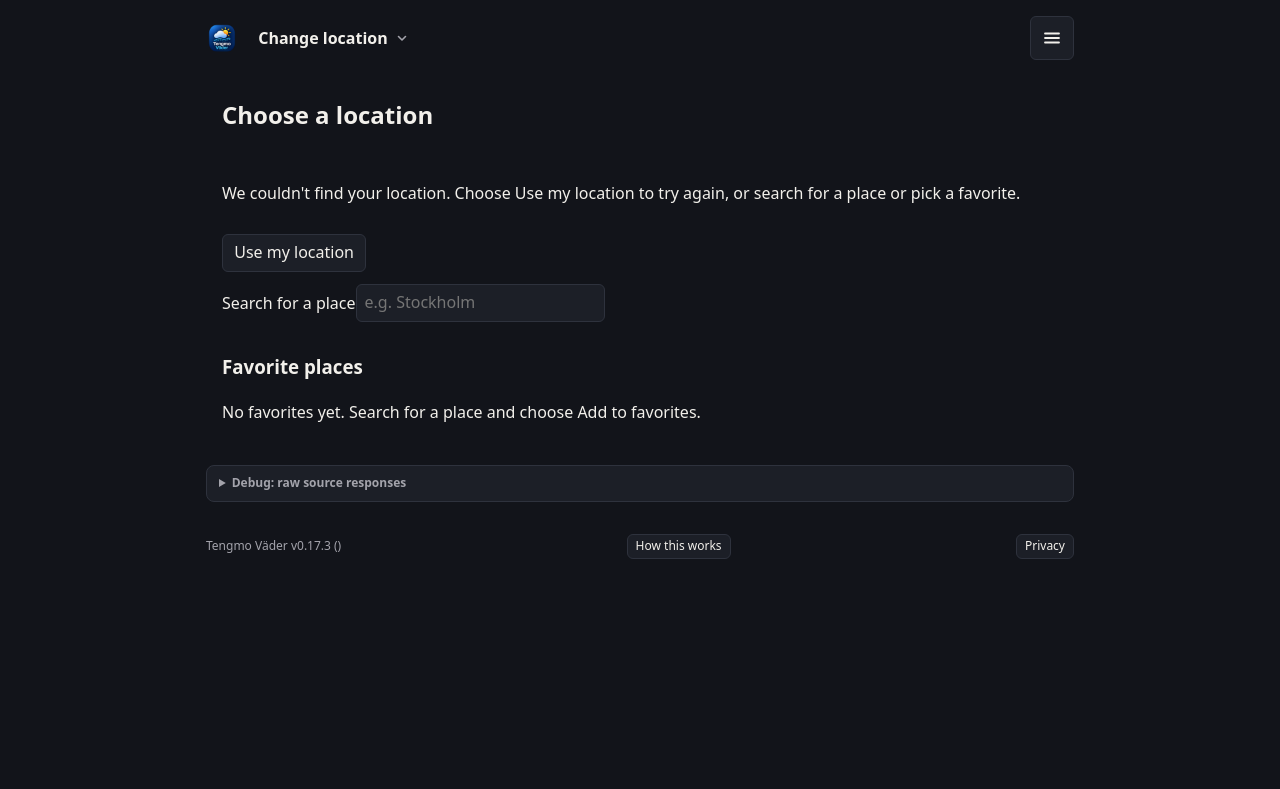
Test case: View a search result without favoriting (014-dashboard-usability-fixes, US1) › shows only the place name in the header after selecting a search result, not the full region/country string (049-show-only-place)
Click the button "Change location" at (333, 38), box [246,16,420,60]
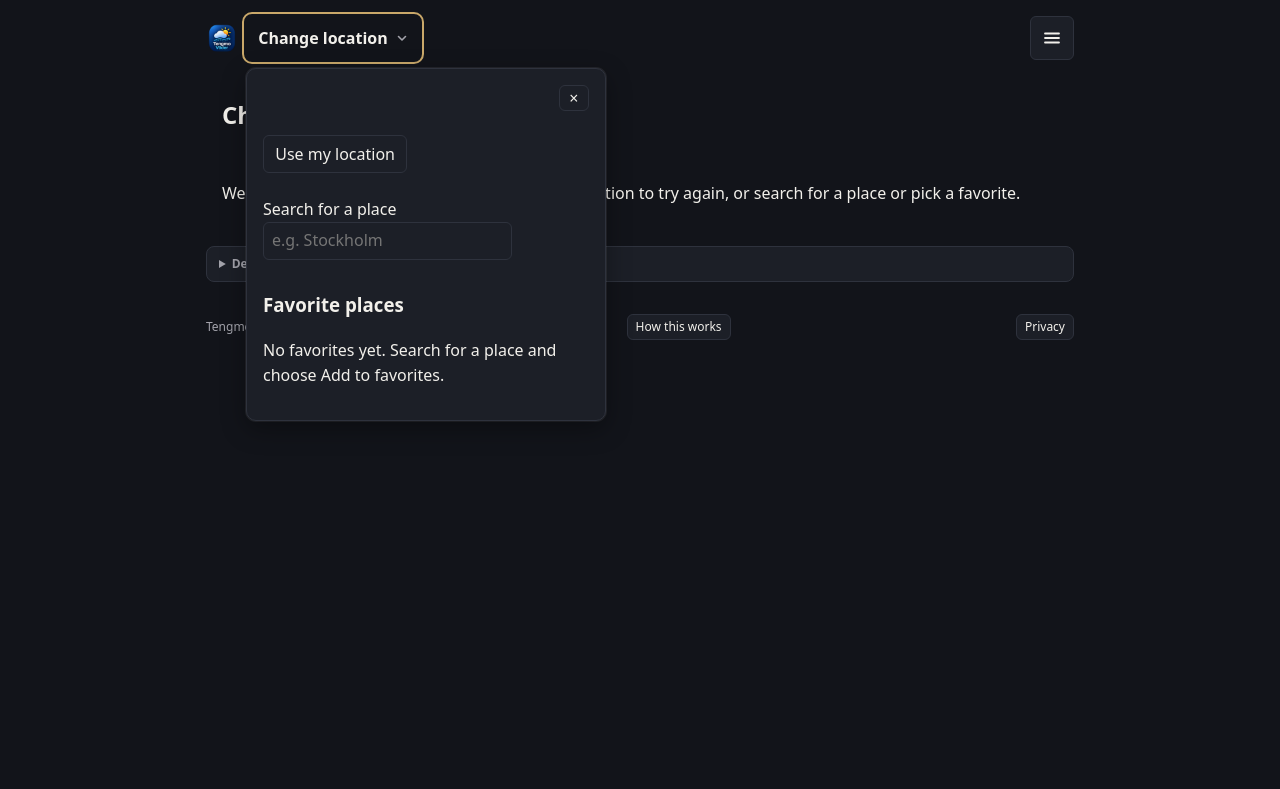
Note: The search-results dropdown itself keeps the full disambiguating name (FR-002).
Type "Uppsala" into the field labelled "Search for a place" at (388, 241), box [263,222,512,260]
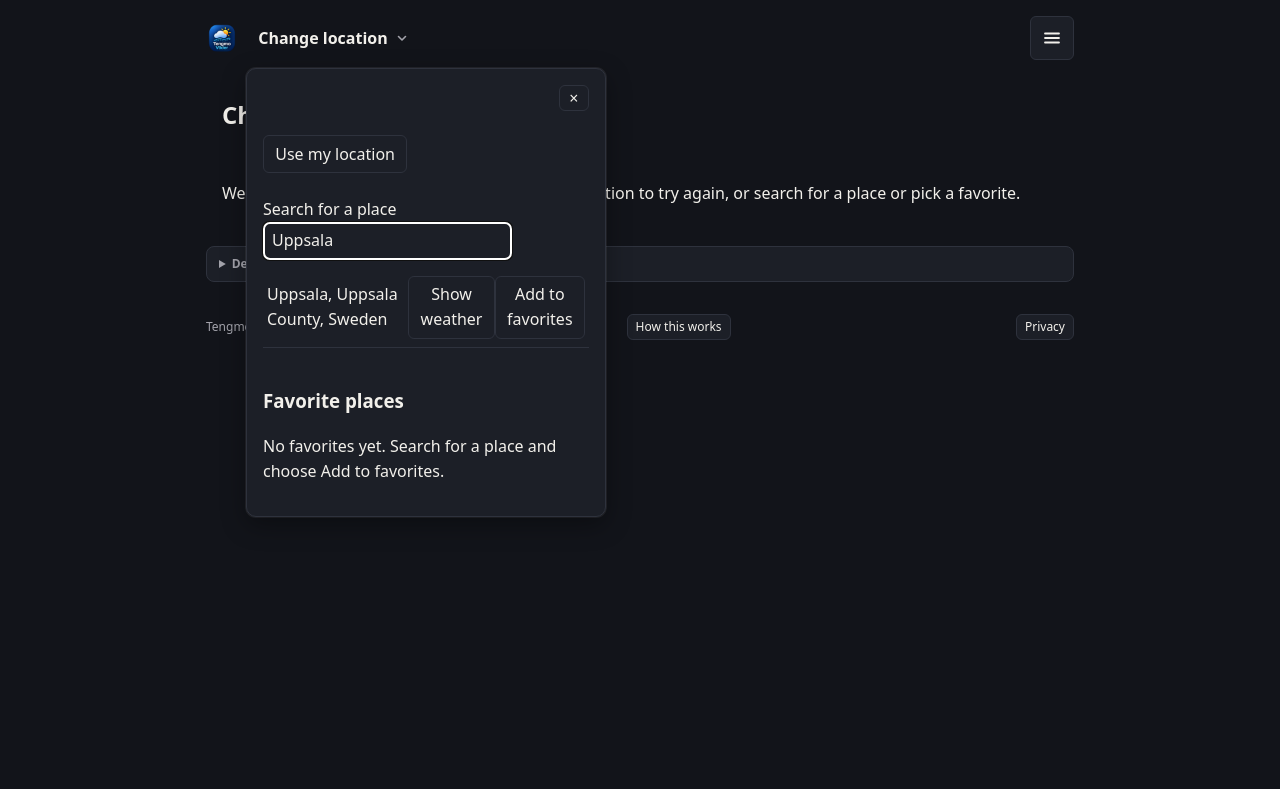
Expected: the text "Uppsala, Uppsala County, Sweden" is shown, [267,282,408,332]
Click the button "Show weather" at (452, 307), box [408,276,495,339]
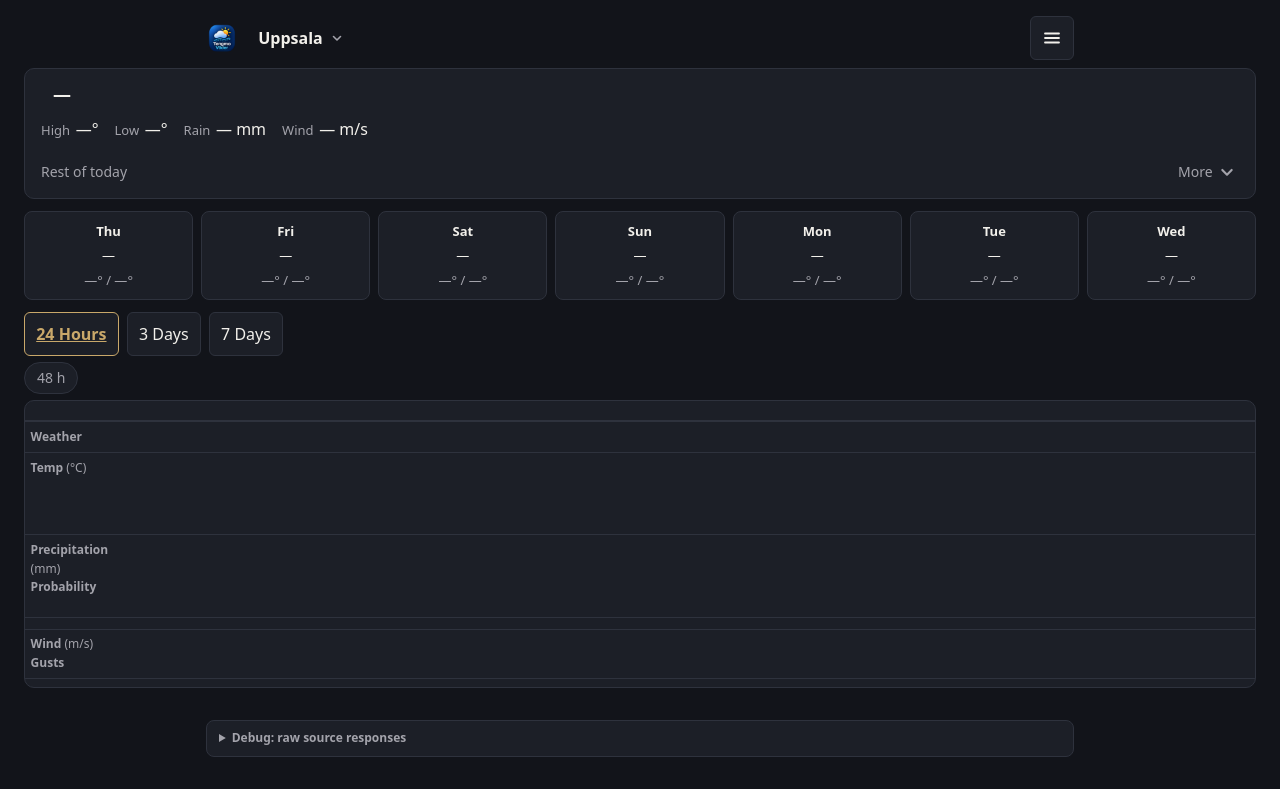
Expected: the button with aria-label "Change location" reads "Uppsala", [246,16,355,60]
Expected: the button with aria-label "Change location" no longer shows "Uppsala County", [246,16,355,60]
Expected: the button with aria-label "Change location" no longer shows "Sweden", [246,16,355,60]
